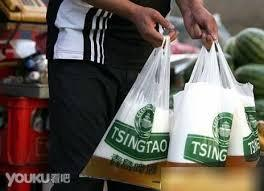Plastic bag: (172, 28, 256, 167), (102, 35, 179, 166)
